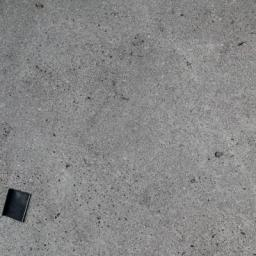FOD: (2, 183, 34, 229)
